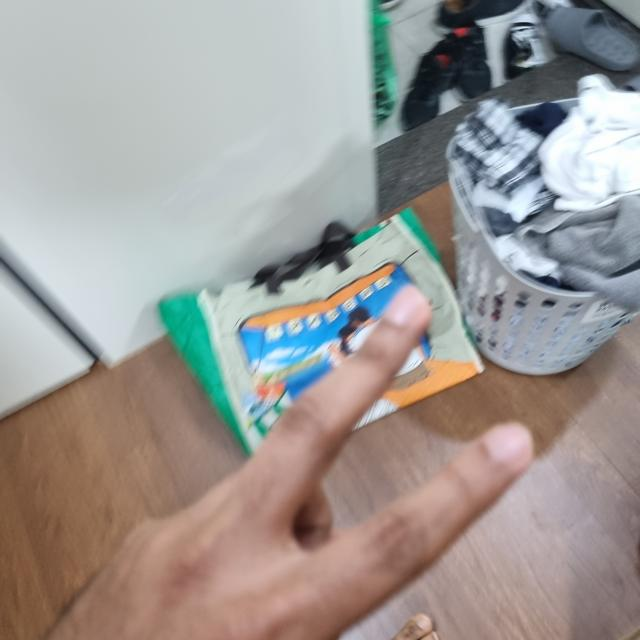Scissors: (65, 286, 539, 639)
